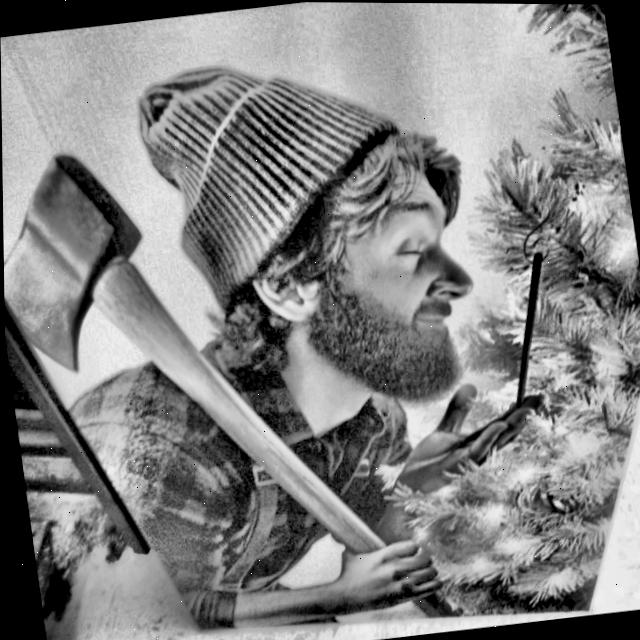kapak: (4, 140, 403, 554)
